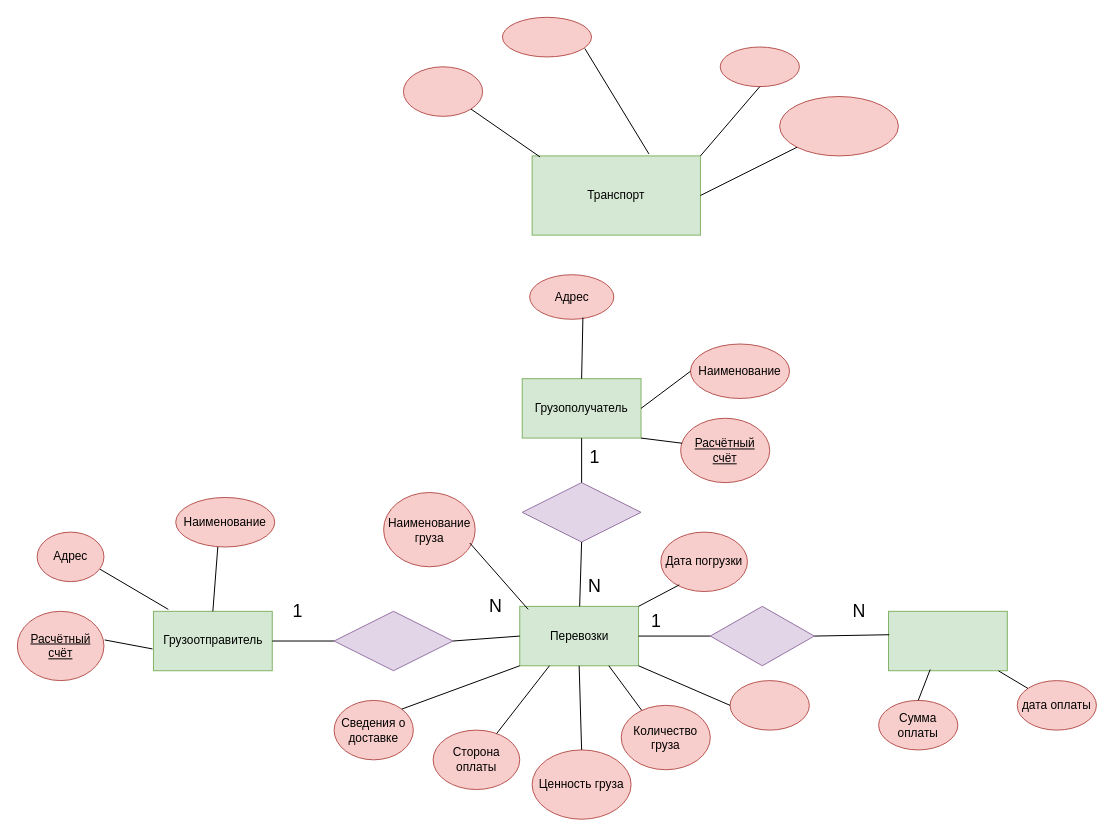
The diagram is 1114 pixels wide and 837 high, and some of its shapes have lost their labels. Each missing label, with the box of its shape:
Включает: (709, 605, 814, 666)
Грузоподъёмность: (779, 96, 898, 156)
Дата доставки: (729, 680, 809, 730)
Дата ТО: (402, 66, 483, 116)
Номер: (501, 16, 592, 57)
Оплата: (888, 610, 1007, 671)
Отправляет: (333, 610, 453, 671)
Получает: (521, 482, 641, 542)
ФИО водителя: (719, 46, 799, 87)
